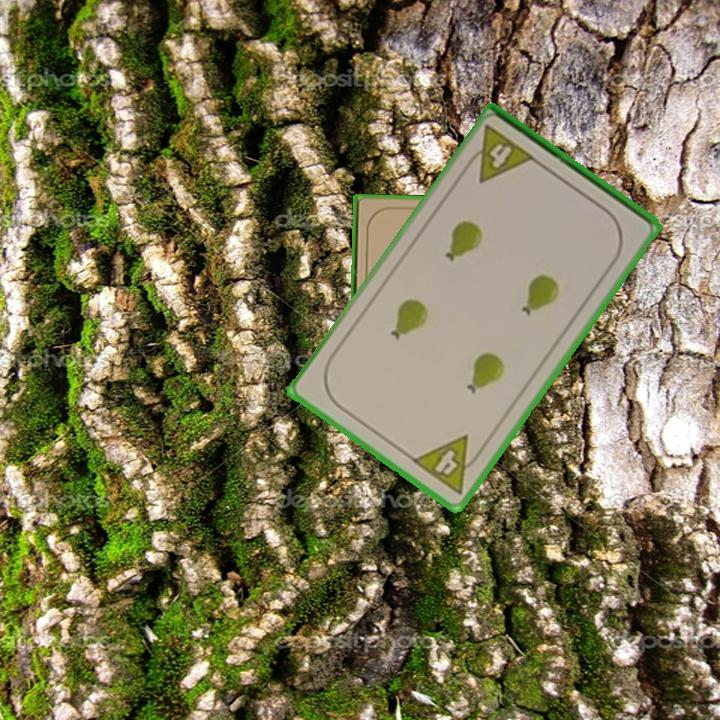4p: (408, 431, 488, 498), (460, 122, 538, 186)
